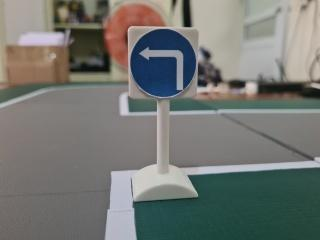left: (127, 25, 198, 100)
